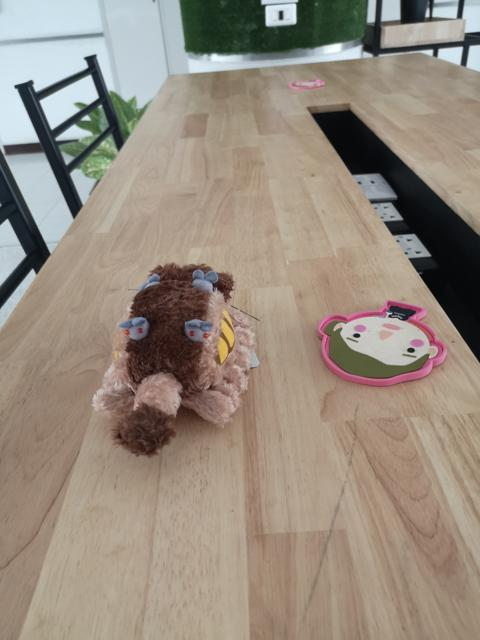nekobus: (87, 254, 265, 466)
